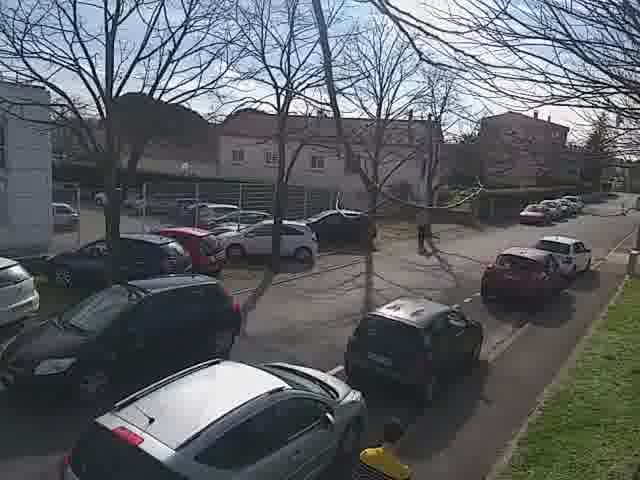persona: (412, 202, 432, 253)
